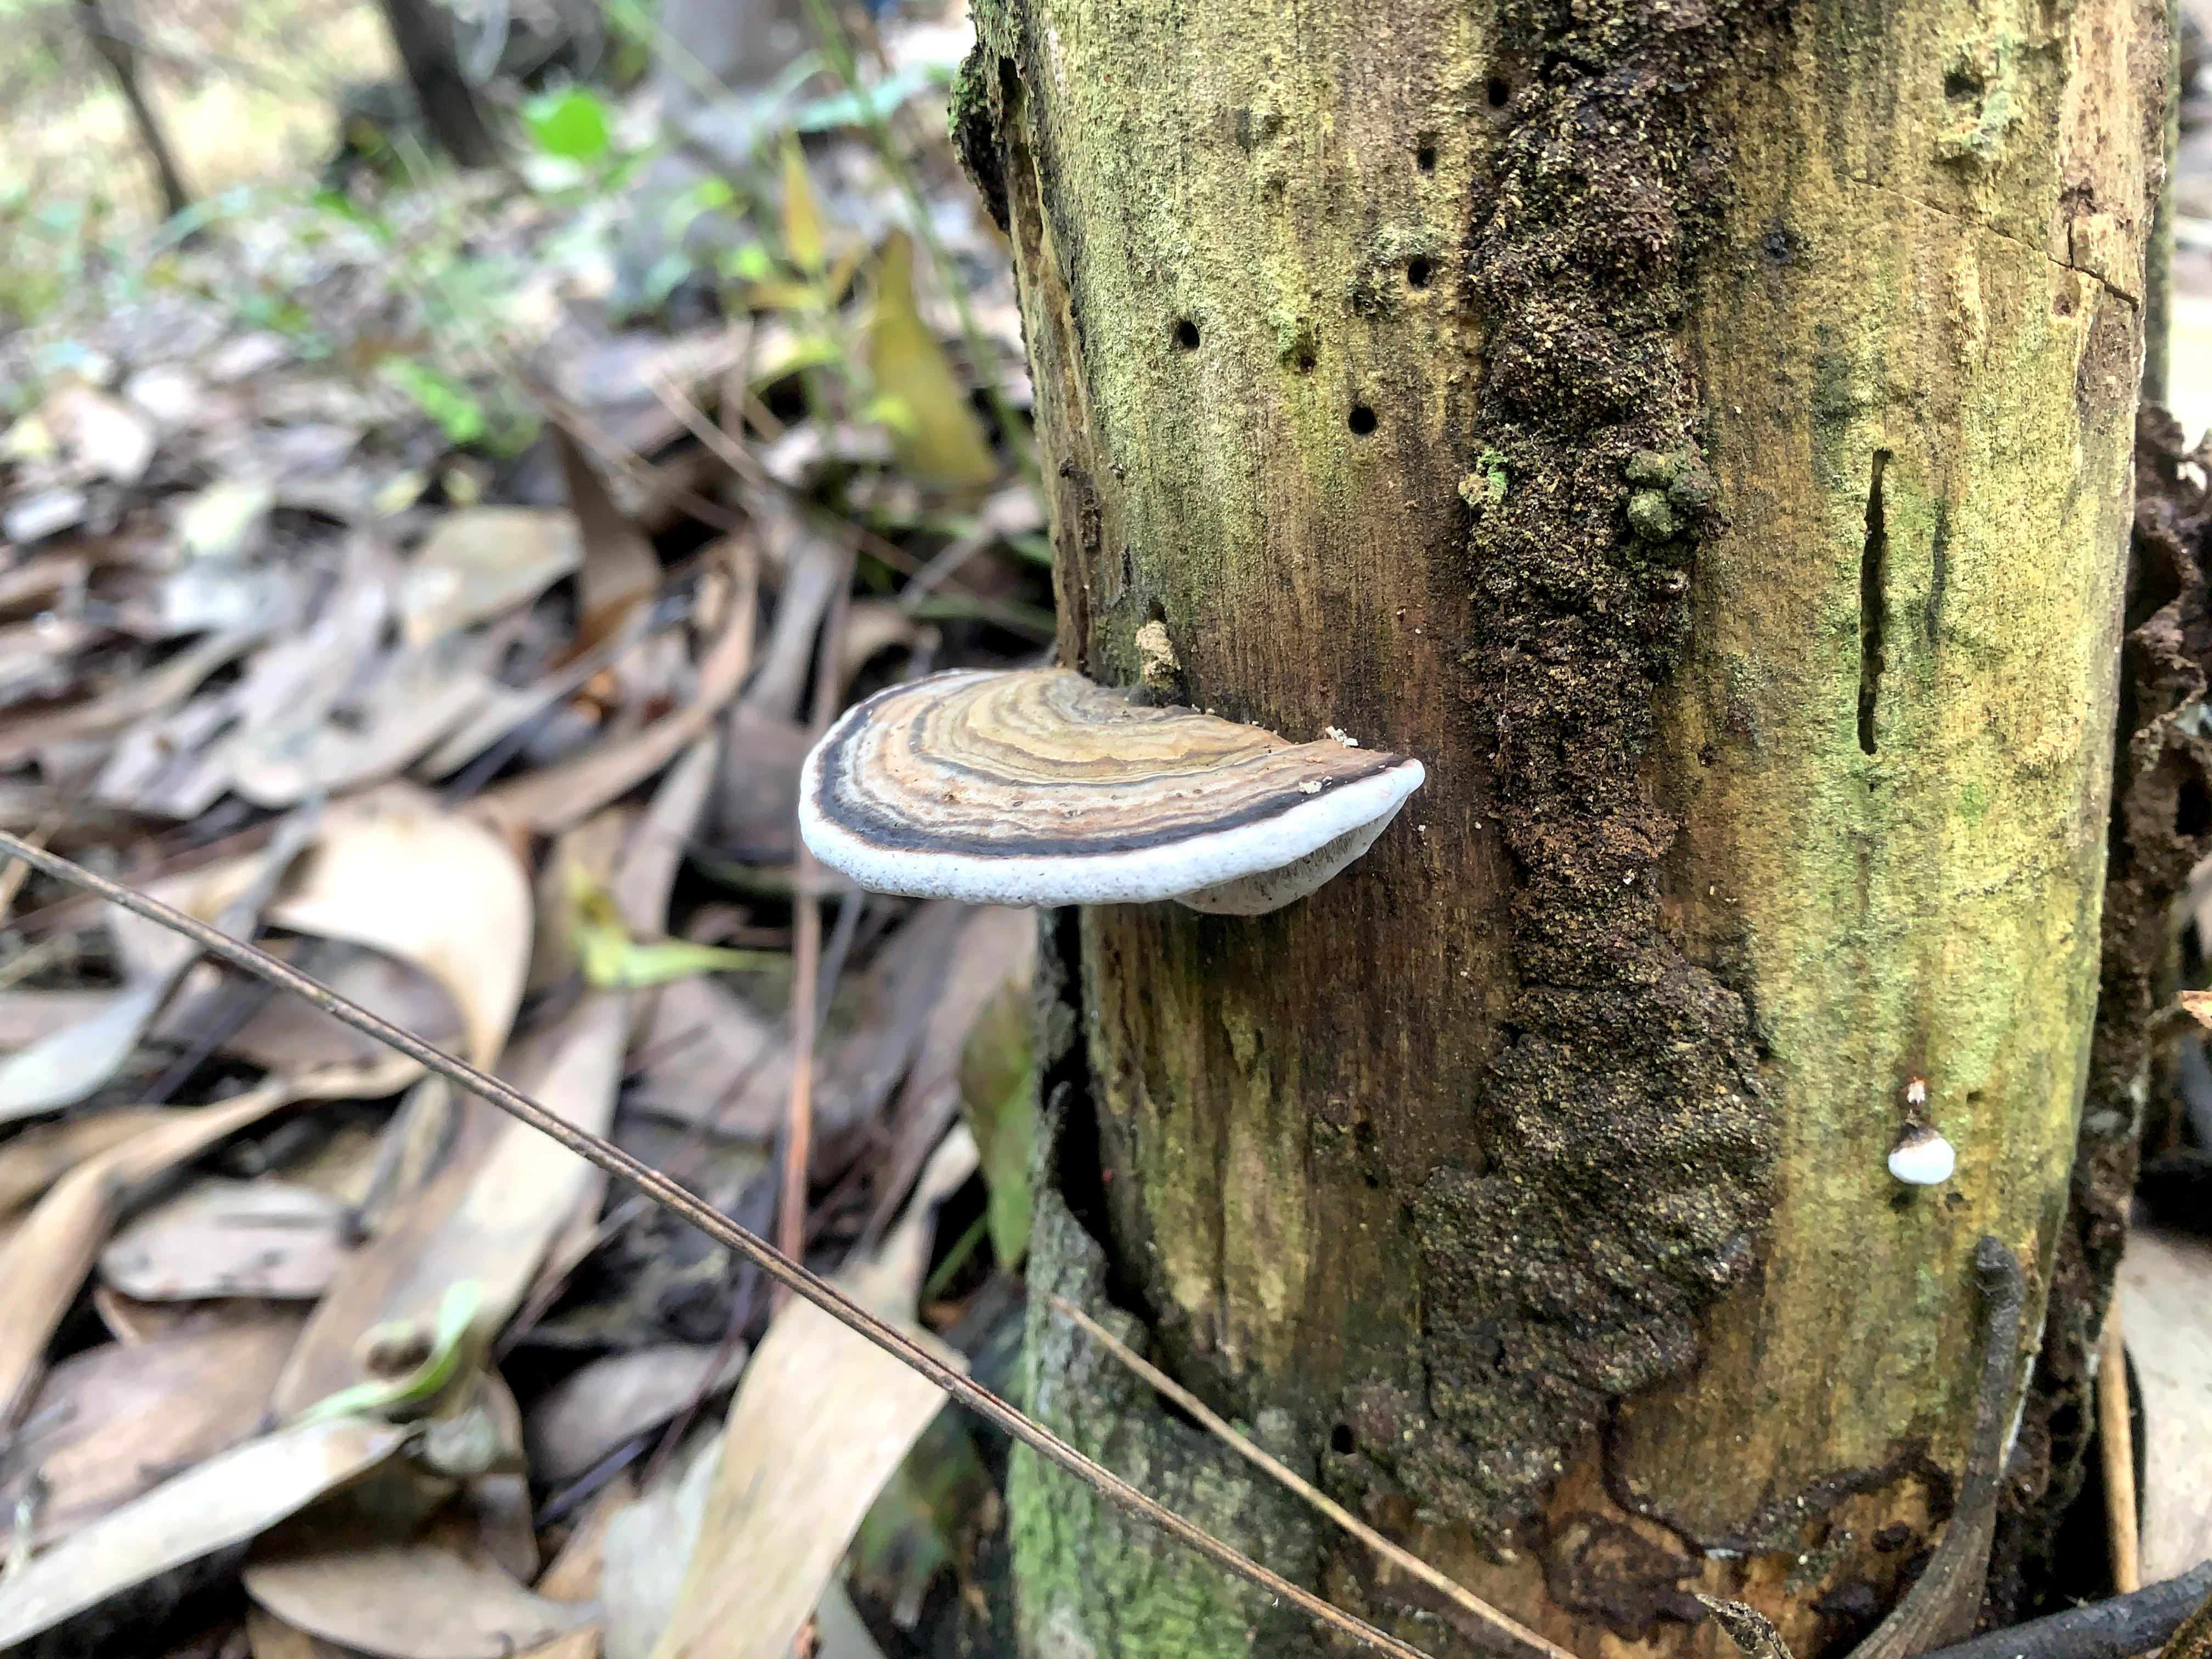Ganoderma - Fruit Body: (796, 662, 1423, 913)
